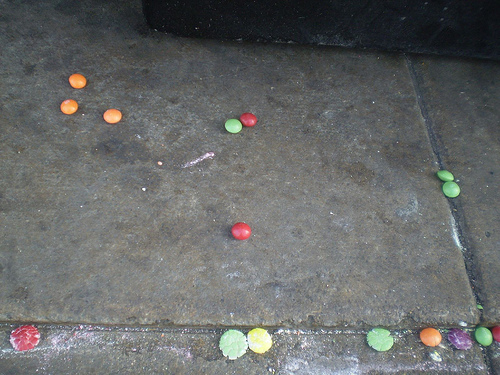litter: (218, 329, 249, 361), (10, 324, 40, 352), (247, 326, 274, 357), (365, 328, 393, 351), (448, 327, 472, 350), (417, 325, 442, 347), (473, 325, 492, 348), (58, 96, 79, 116), (229, 222, 250, 240), (443, 181, 461, 200), (239, 110, 258, 128), (102, 108, 123, 124), (68, 73, 86, 89), (436, 168, 455, 181), (225, 117, 240, 133), (493, 326, 500, 343)
